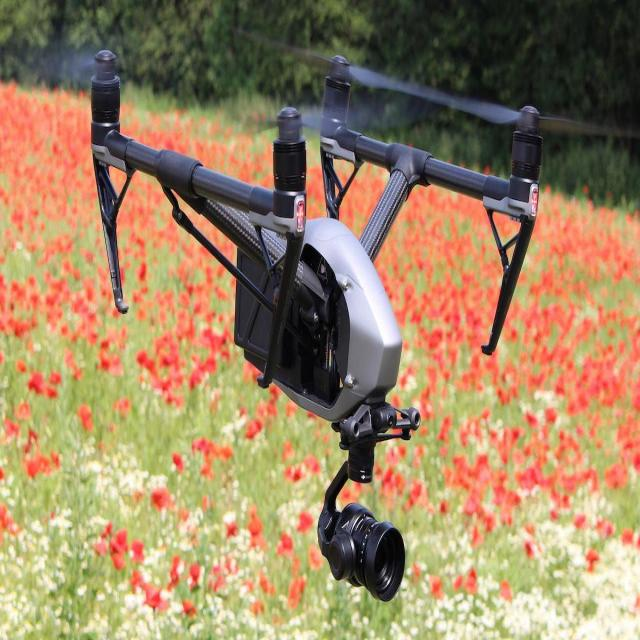drones: (31, 16, 640, 606)
